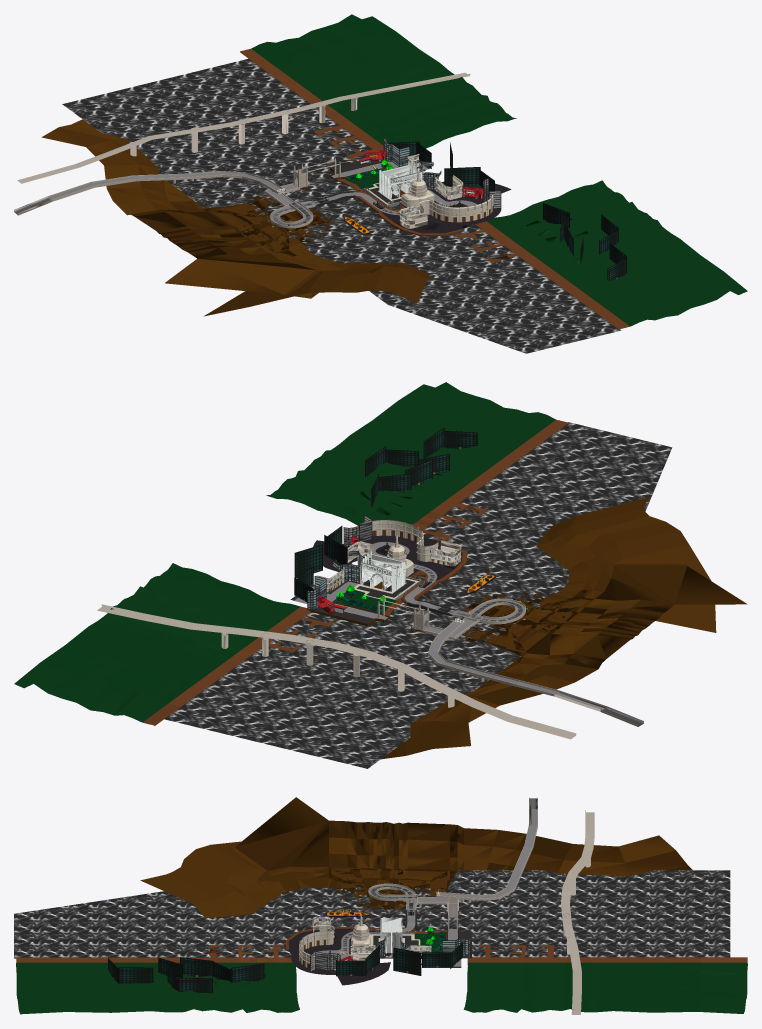
3 renders of one model, top to bottom at view 1: azimuth 30°, elevation 25°; view 2: azimuth 150°, elevation 25°; view 3: azimuth 270°, elevation 25°, orthographic. The views are drawn at different scales.
Visible parts, largest first — view 1: Track, Water.011, Background; view 2: Track, Water.011, Background; view 3: Track, Water.011, Background.
Boxes of the visible parts, <box> form: Track: <box>14,14,747,329</box>; Water.011: <box>62,58,621,353</box>; Background: <box>388,141,626,280</box>; Track: <box>14,382,747,759</box>; Water.011: <box>164,422,672,768</box>; Background: <box>294,427,477,602</box>; Track: <box>16,797,747,1014</box>; Water.011: <box>14,870,730,958</box>; Background: <box>108,942,462,993</box>.
Bounding box in the file's own units: 195744 × 21813 × 272007.
Materials: 4 (4 with a texture image).
